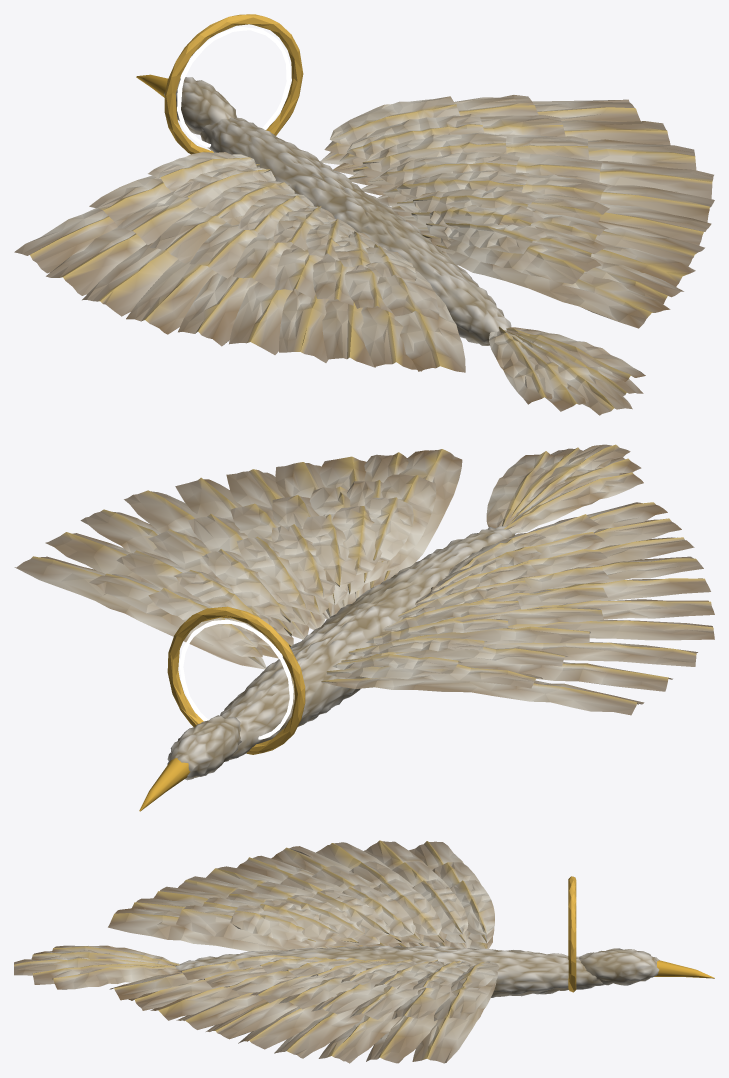
Rendered from seraphine_small.glb.
3 renders of one model, top to bottom at view 1: azimuth 30°, elevation 25°; view 2: azimuth 150°, elevation 25°; view 3: azimuth 270°, elevation 25°, orthographic. The views are drawn at different scales.
Visible parts, largest first — view 1: seraphine_small.001; view 2: seraphine_small.001; view 3: seraphine_small.001.
Part boxes in pixels (x1,y1,x2,y2): seraphine_small.001: (14, 14, 714, 415); seraphine_small.001: (14, 444, 714, 811); seraphine_small.001: (14, 840, 714, 1063).
Bounding box in the file's own units: 7.49 × 1.81 × 10.
